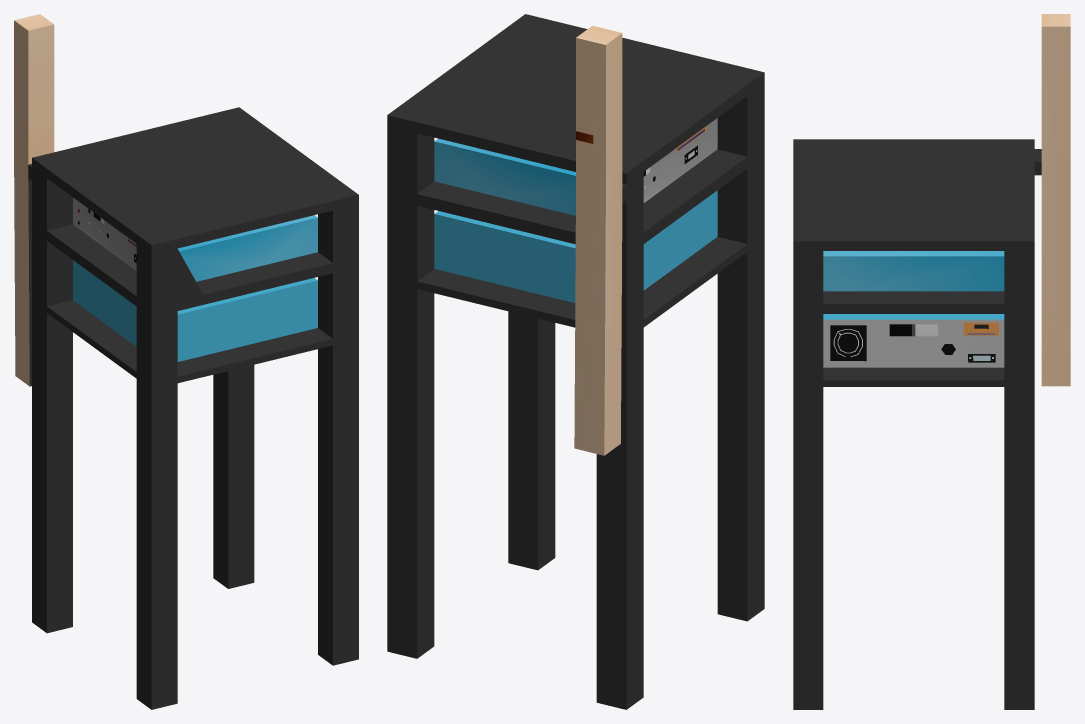
File: Máquina de convección libre y forzada.fbx
The picture shows the model from 3 angles, left to right: view 1: azimuth 30°, elevation 25°; view 2: azimuth 150°, elevation 25°; view 3: azimuth 270°, elevation 25°; orthographic projection. The views are drawn at different scales.
Visible parts, largest first — view 1: Cube; view 2: Cube; view 3: Cube.
Boxes of the visible parts, x1,y1,x2,y2 form: Cube: [14, 14, 358, 709]; Cube: [387, 14, 764, 709]; Cube: [793, 14, 1070, 709].
Size of the model in its own units: 200 by 543 by 230.
